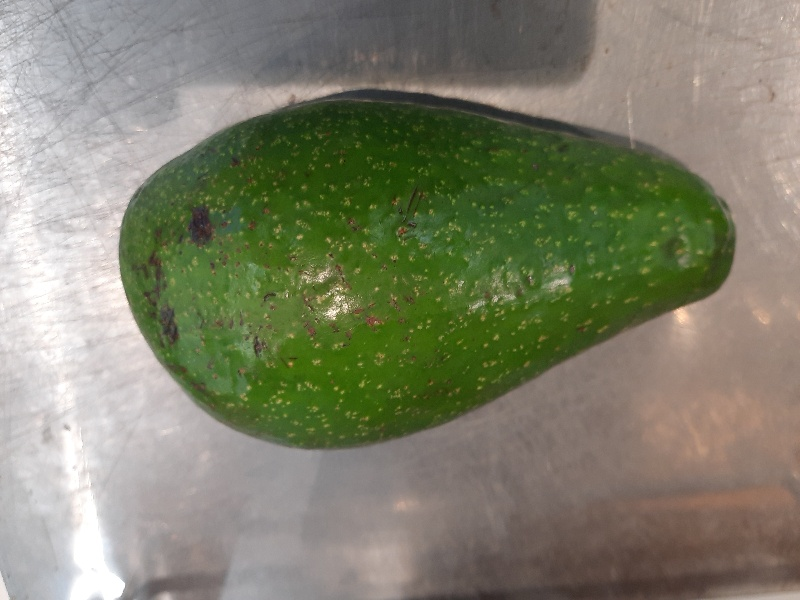fruit: (116, 90, 739, 457)
